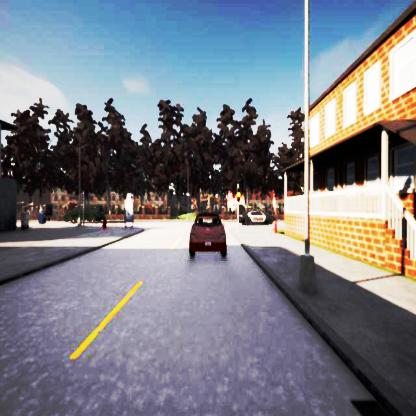vehicle: (188, 213, 226, 258), (248, 210, 267, 224)
